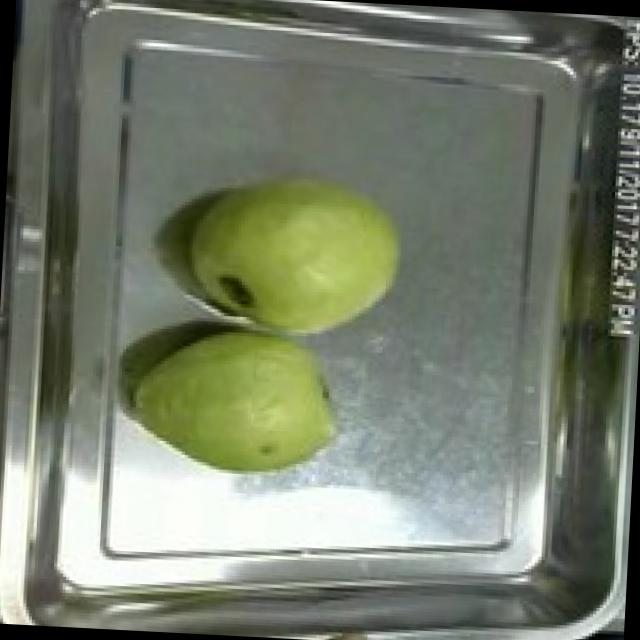Fruit: (174, 152, 418, 354), (122, 310, 349, 491)
